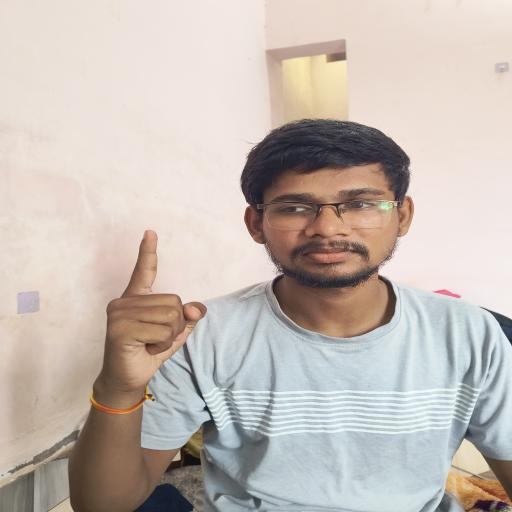What: (83, 227, 226, 412)
